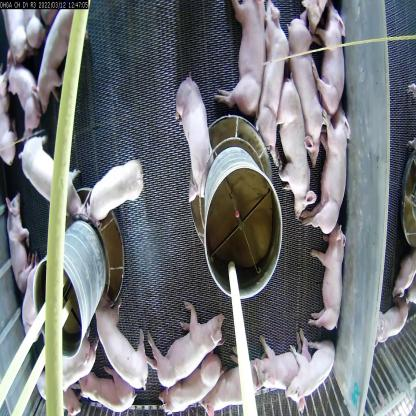Pig: (28, 0, 102, 133), (139, 300, 229, 400), (286, 13, 334, 173), (90, 304, 161, 404), (165, 72, 216, 210), (224, 0, 265, 136), (76, 154, 150, 225), (315, 105, 348, 253), (283, 70, 314, 221), (21, 146, 86, 216), (287, 339, 348, 413), (72, 355, 147, 415), (310, 224, 344, 350), (311, 0, 342, 127), (258, 4, 284, 148), (170, 356, 232, 416), (251, 336, 309, 398), (4, 199, 28, 309), (207, 370, 262, 416), (5, 56, 36, 122)
